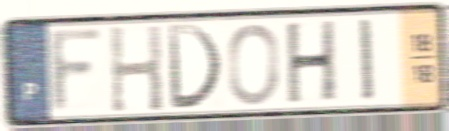D: (164, 21, 225, 112)
F: (47, 24, 107, 118)
H: (107, 22, 166, 115), (285, 17, 338, 108)
I: (356, 15, 378, 105)
O: (226, 21, 282, 108)
